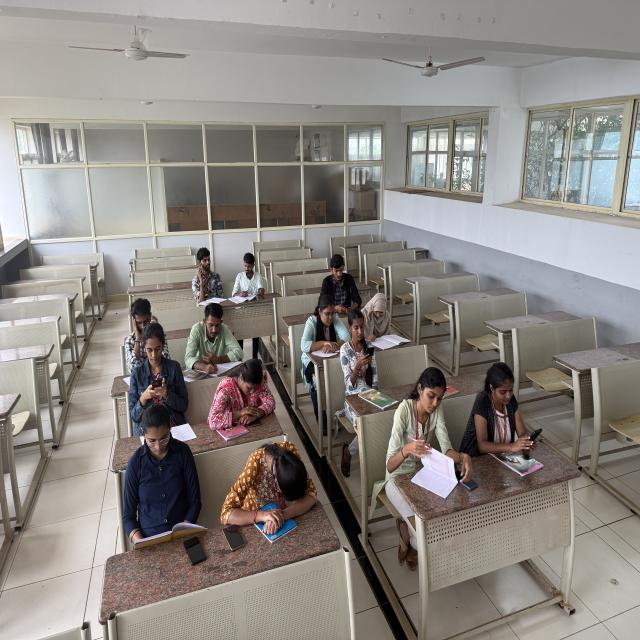Reading: (116, 397, 202, 562), (298, 294, 350, 369)
Sleeping: (218, 433, 322, 544)
Using Phone: (466, 359, 552, 470), (122, 321, 194, 428), (335, 306, 384, 393), (186, 243, 231, 308), (316, 253, 363, 314)
Writing: (180, 301, 242, 379), (356, 287, 409, 347), (228, 249, 268, 307)
